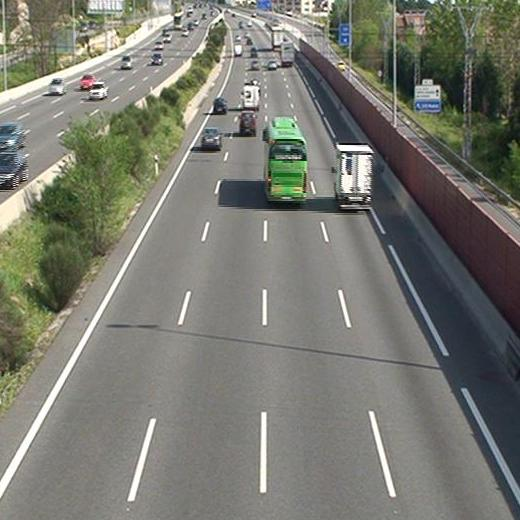bus: (264, 118, 308, 202)
car: (238, 111, 258, 134), (201, 128, 221, 149), (213, 98, 228, 115), (250, 59, 260, 70), (268, 59, 277, 70)
small-truck: (334, 143, 374, 207), (280, 42, 294, 66)
van: (242, 85, 261, 107), (234, 43, 242, 56)
